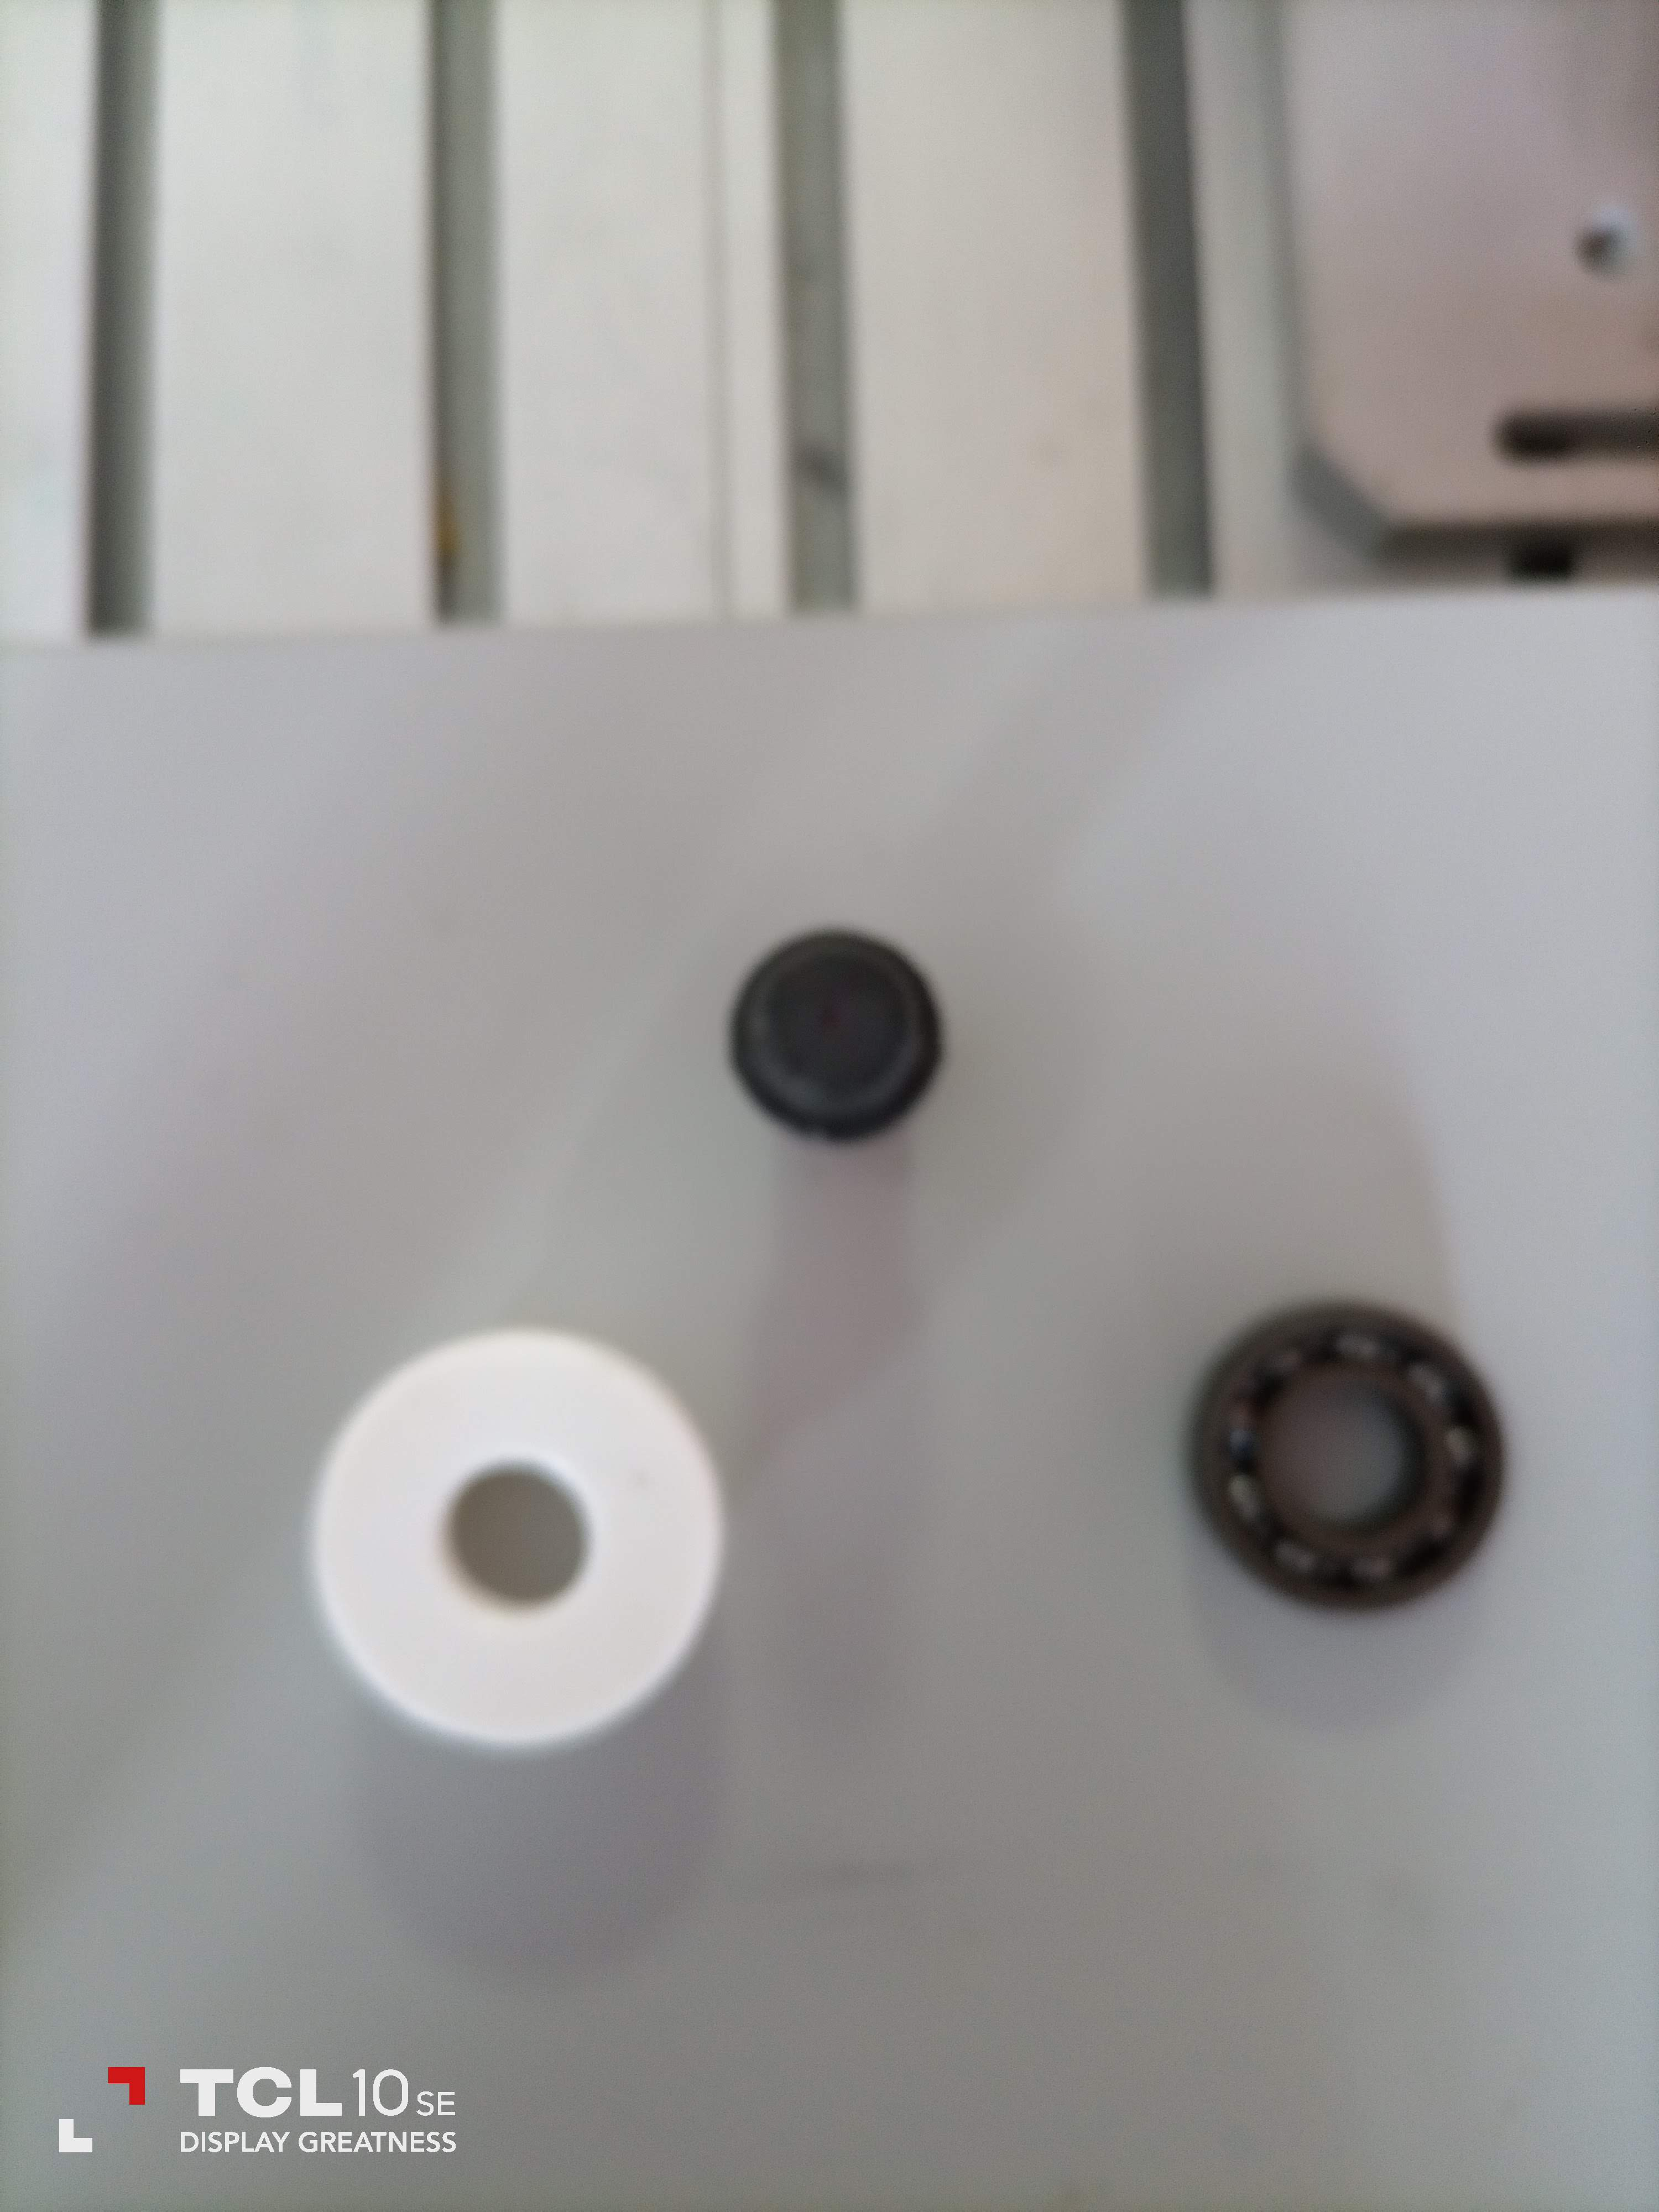Ardatza: (721, 914, 955, 1143)
Roda: (1202, 1291, 1511, 1592)
Tapa: (291, 1338, 741, 1747)
